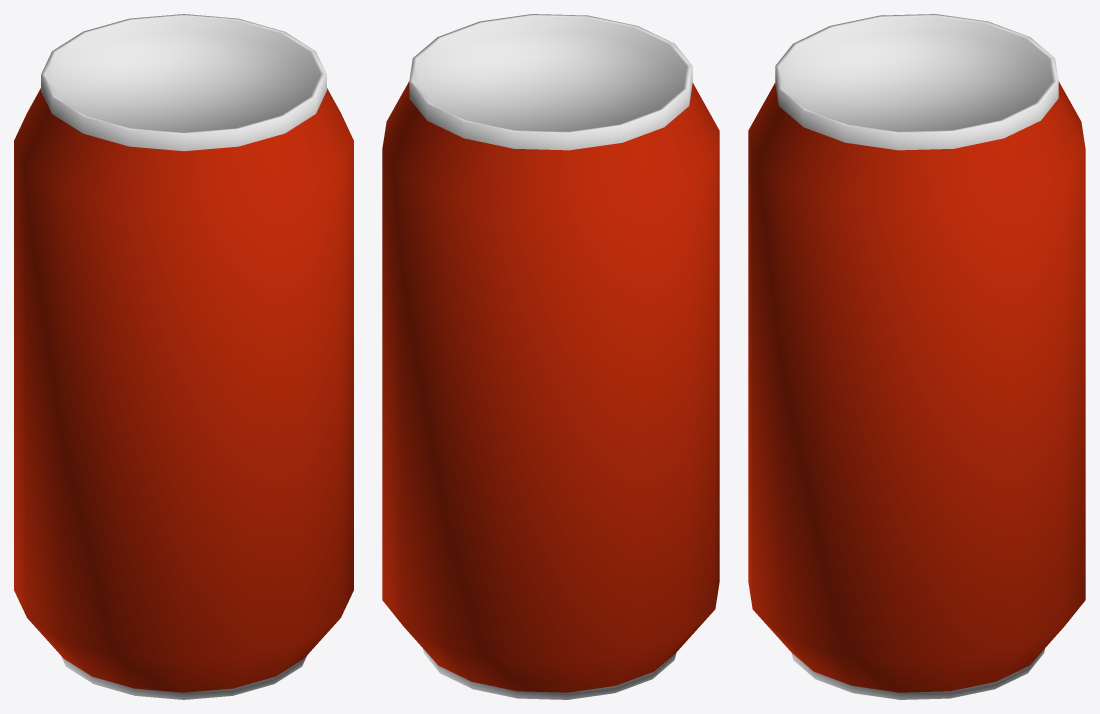
Rendered from SP_Trash_ColaTIn01.fbx.
The picture shows the model from 3 angles, left to right: view 1: azimuth 30°, elevation 25°; view 2: azimuth 150°, elevation 25°; view 3: azimuth 270°, elevation 25°; orthographic projection.
Visible parts, largest first — view 1: SP_Trash_ColaTIn01; view 2: SP_Trash_ColaTIn01; view 3: SP_Trash_ColaTIn01.
Boxes of the visible parts, x1,y1,x2,y2 form: SP_Trash_ColaTIn01: [14, 14, 353, 699]; SP_Trash_ColaTIn01: [382, 14, 719, 699]; SP_Trash_ColaTIn01: [748, 14, 1085, 699].
Bounding box in the file's own units: 0.0595 × 0.1113 × 0.0595.
